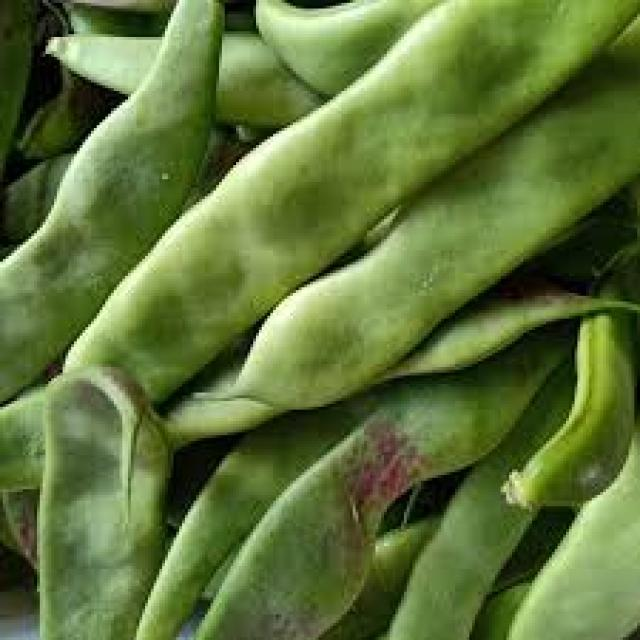food_waste: (0, 0, 637, 637)
